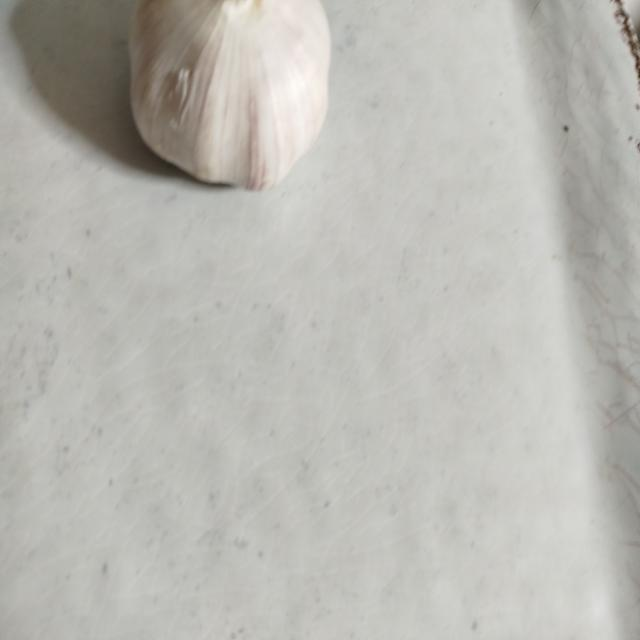garlic: (127, 0, 332, 192)
